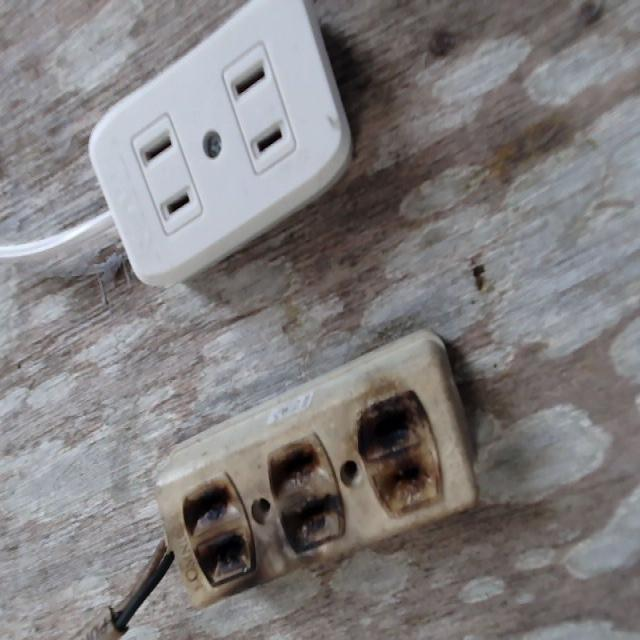-: (179, 392, 437, 585)
